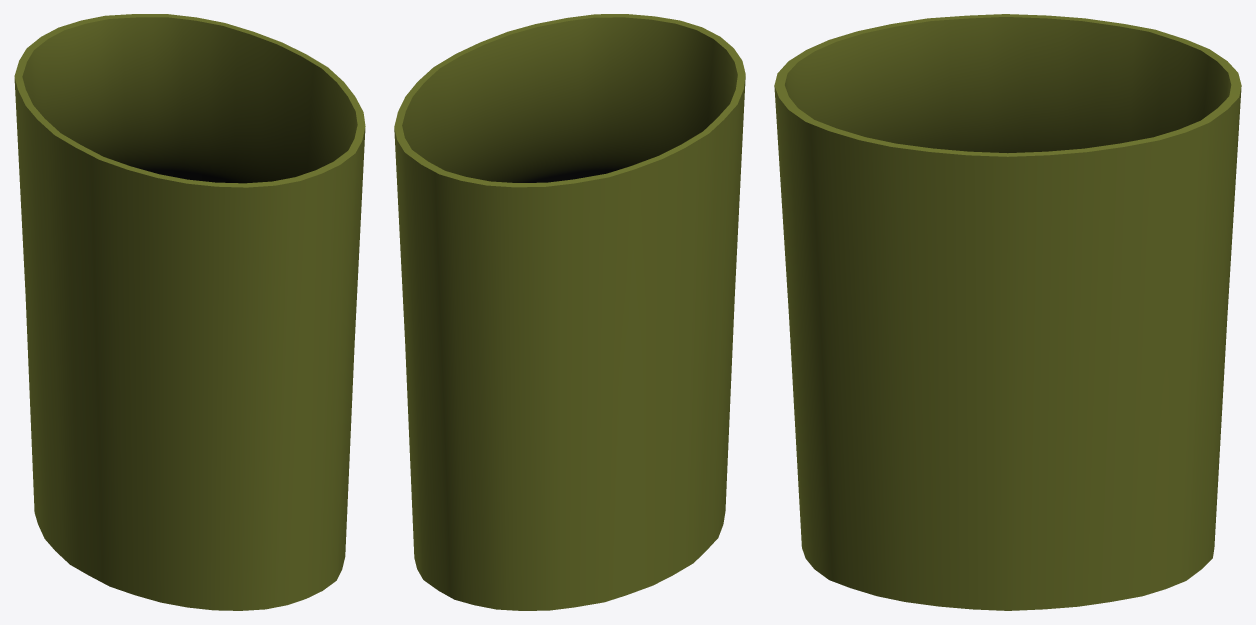
File: BLS_RecyclingBin_Shanna.fbx
The picture shows the model from 3 angles, left to right: view 1: azimuth 30°, elevation 25°; view 2: azimuth 150°, elevation 25°; view 3: azimuth 270°, elevation 25°; orthographic projection. The views are drawn at different scales.
Parts seen in each view (by area): view 1: Recycling_Bin; view 2: Recycling_Bin; view 3: Recycling_Bin.
Boxes of the visible parts, <box> form: Recycling_Bin: <box>14,14,365,610</box>; Recycling_Bin: <box>394,14,745,610</box>; Recycling_Bin: <box>774,14,1241,610</box>.
Size of the model in its own units: 176 by 266 by 243.
